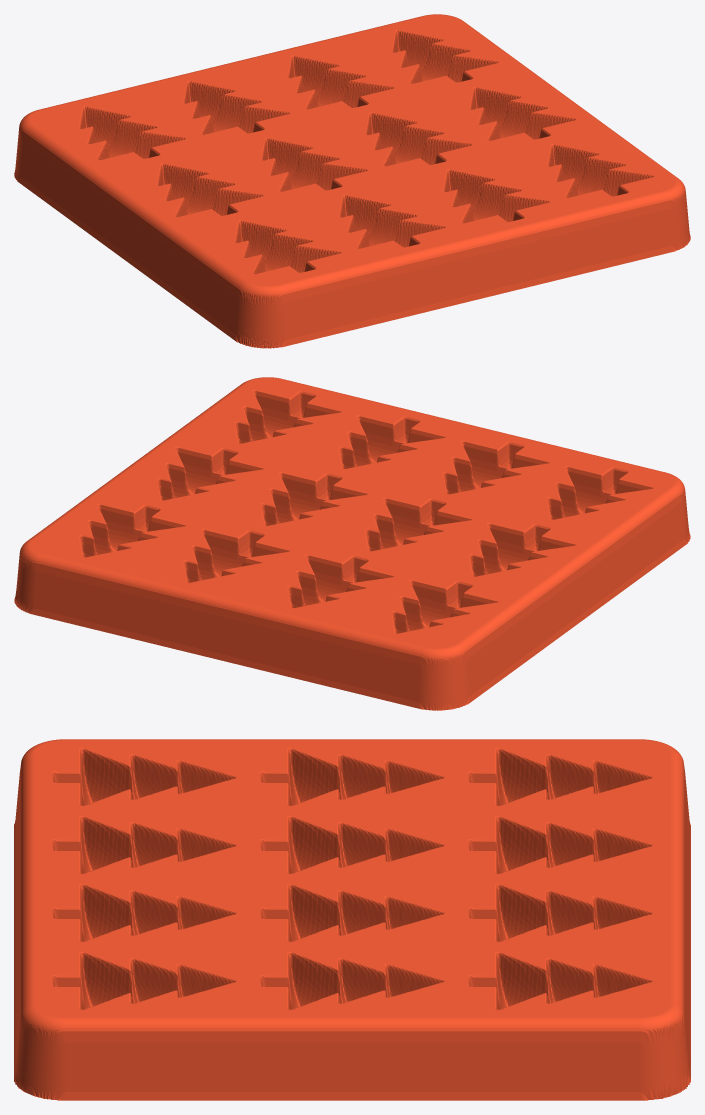
The model's file is mold.glb.
3 renders of one model, top to bottom at view 1: azimuth 30°, elevation 25°; view 2: azimuth 150°, elevation 25°; view 3: azimuth 270°, elevation 25°, orthographic. The views are drawn at different scales.
Visible parts, largest first — view 1: geometry_0; view 2: geometry_0; view 3: geometry_0.
Boxes of the visible parts, box(x1,y1,x2,y2) form: geometry_0: box(14, 14, 690, 348); geometry_0: box(14, 377, 690, 710); geometry_0: box(14, 739, 690, 1100).
Size of the model in its own units: 0.1226 by 0.0145 by 0.1192.
